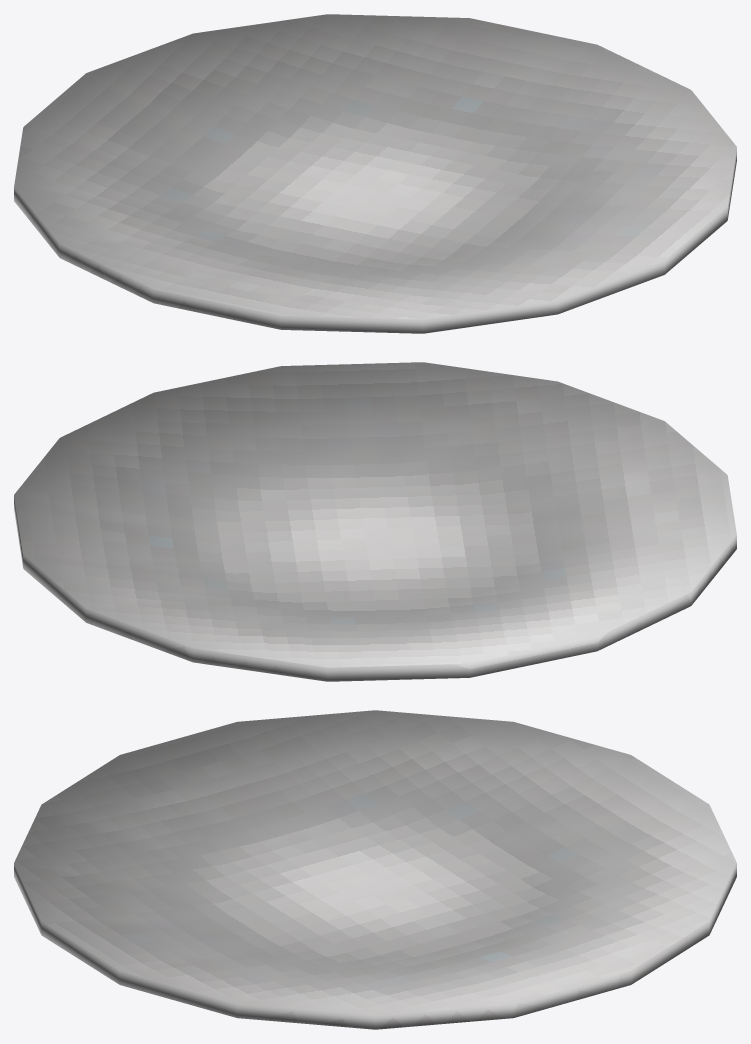
File: Plate.fbx
3 renders of one model, top to bottom at view 1: azimuth 30°, elevation 25°; view 2: azimuth 150°, elevation 25°; view 3: azimuth 270°, elevation 25°, orthographic.
Visible parts, largest first — view 1: Plate; view 2: Plate; view 3: Plate.
Boxes of the visible parts, x1,y1,x2,y2 form: Plate: [14, 14, 736, 333]; Plate: [14, 362, 736, 681]; Plate: [14, 710, 736, 1029].
Size of the model in its own units: 45.14 by 4.94 by 45.14.
